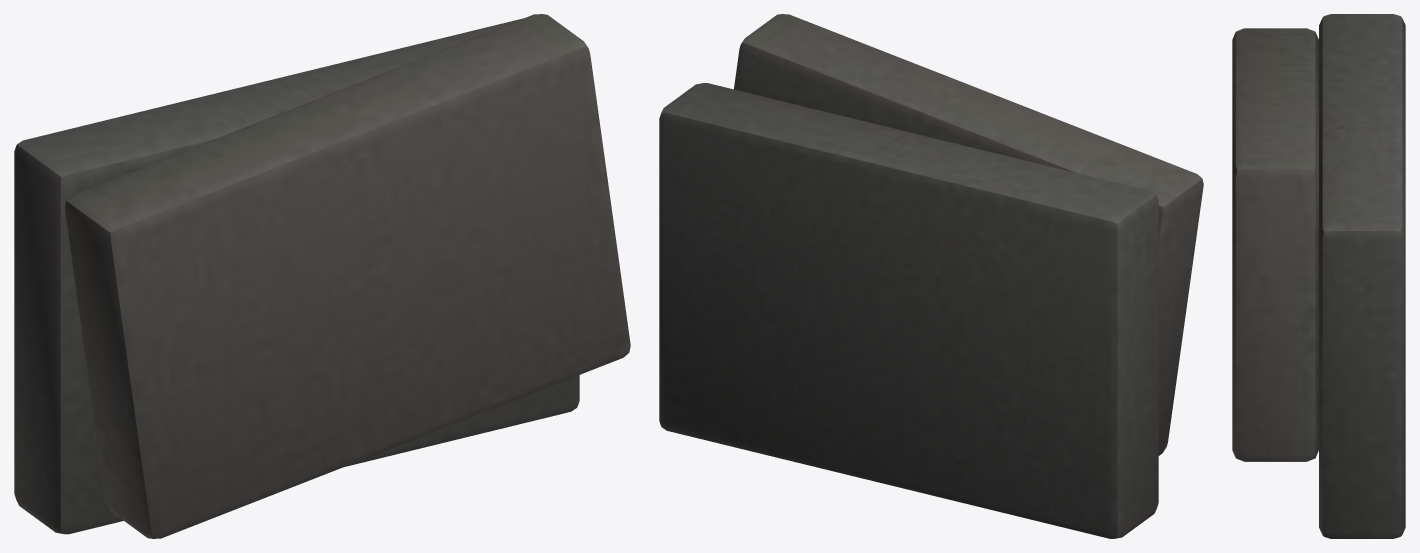
File: raider_slit_wall.glb
3 renders of one model, left to right at view 1: azimuth 30°, elevation 25°; view 2: azimuth 150°, elevation 25°; view 3: azimuth 270°, elevation 25°, orthographic. The views are drawn at different scales.
Visible parts, largest first — view 1: raider_slit_wall; view 2: raider_slit_wall; view 3: raider_slit_wall.
Part boxes in pixels (bbox=[...]): raider_slit_wall: bbox=[14, 14, 630, 538]; raider_slit_wall: bbox=[659, 14, 1203, 538]; raider_slit_wall: bbox=[1232, 14, 1405, 538].
Bounding box in the file's own units: 0.3004 × 0.2276 × 0.1.
Materials: 1 (1 with a texture image).
